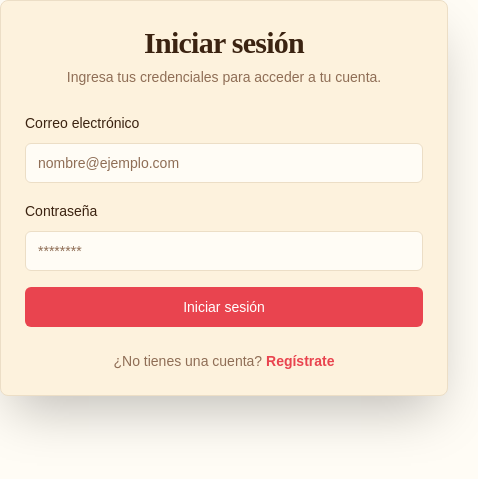
LoginForm › should show validation error for short password
The image size is (478, 479).
In the field labelled "Correo electrónico": (224, 163) [25, 143, 423, 183], type "test@example.com"
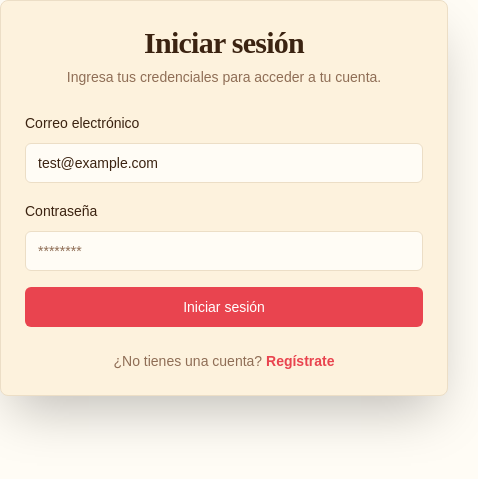
In the password field labelled "Contraseña": (224, 251) [25, 231, 423, 271], type "12345"
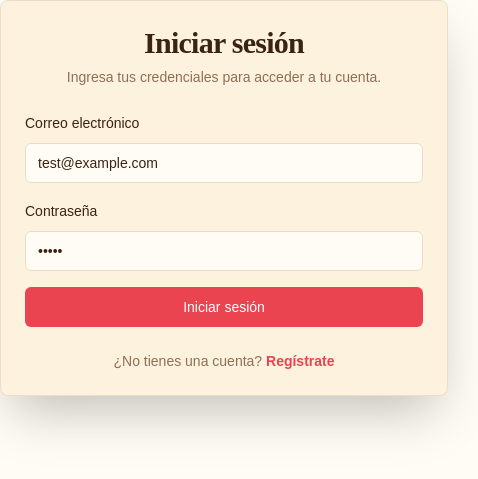
Click the button "Iniciar sesión": (224, 307) [25, 287, 423, 327]
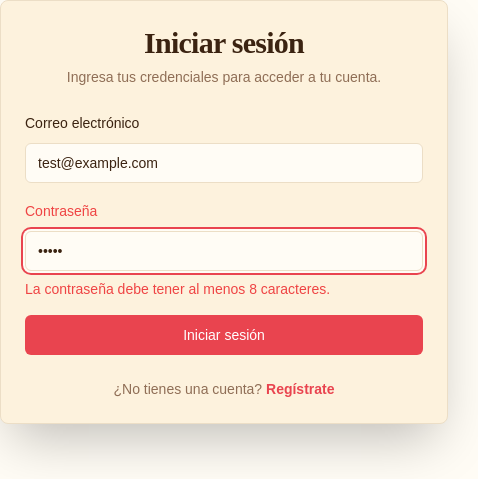
Expected: the text "La contraseña debe tener al menos 8 caracteres." is shown, [25, 281, 330, 297]
